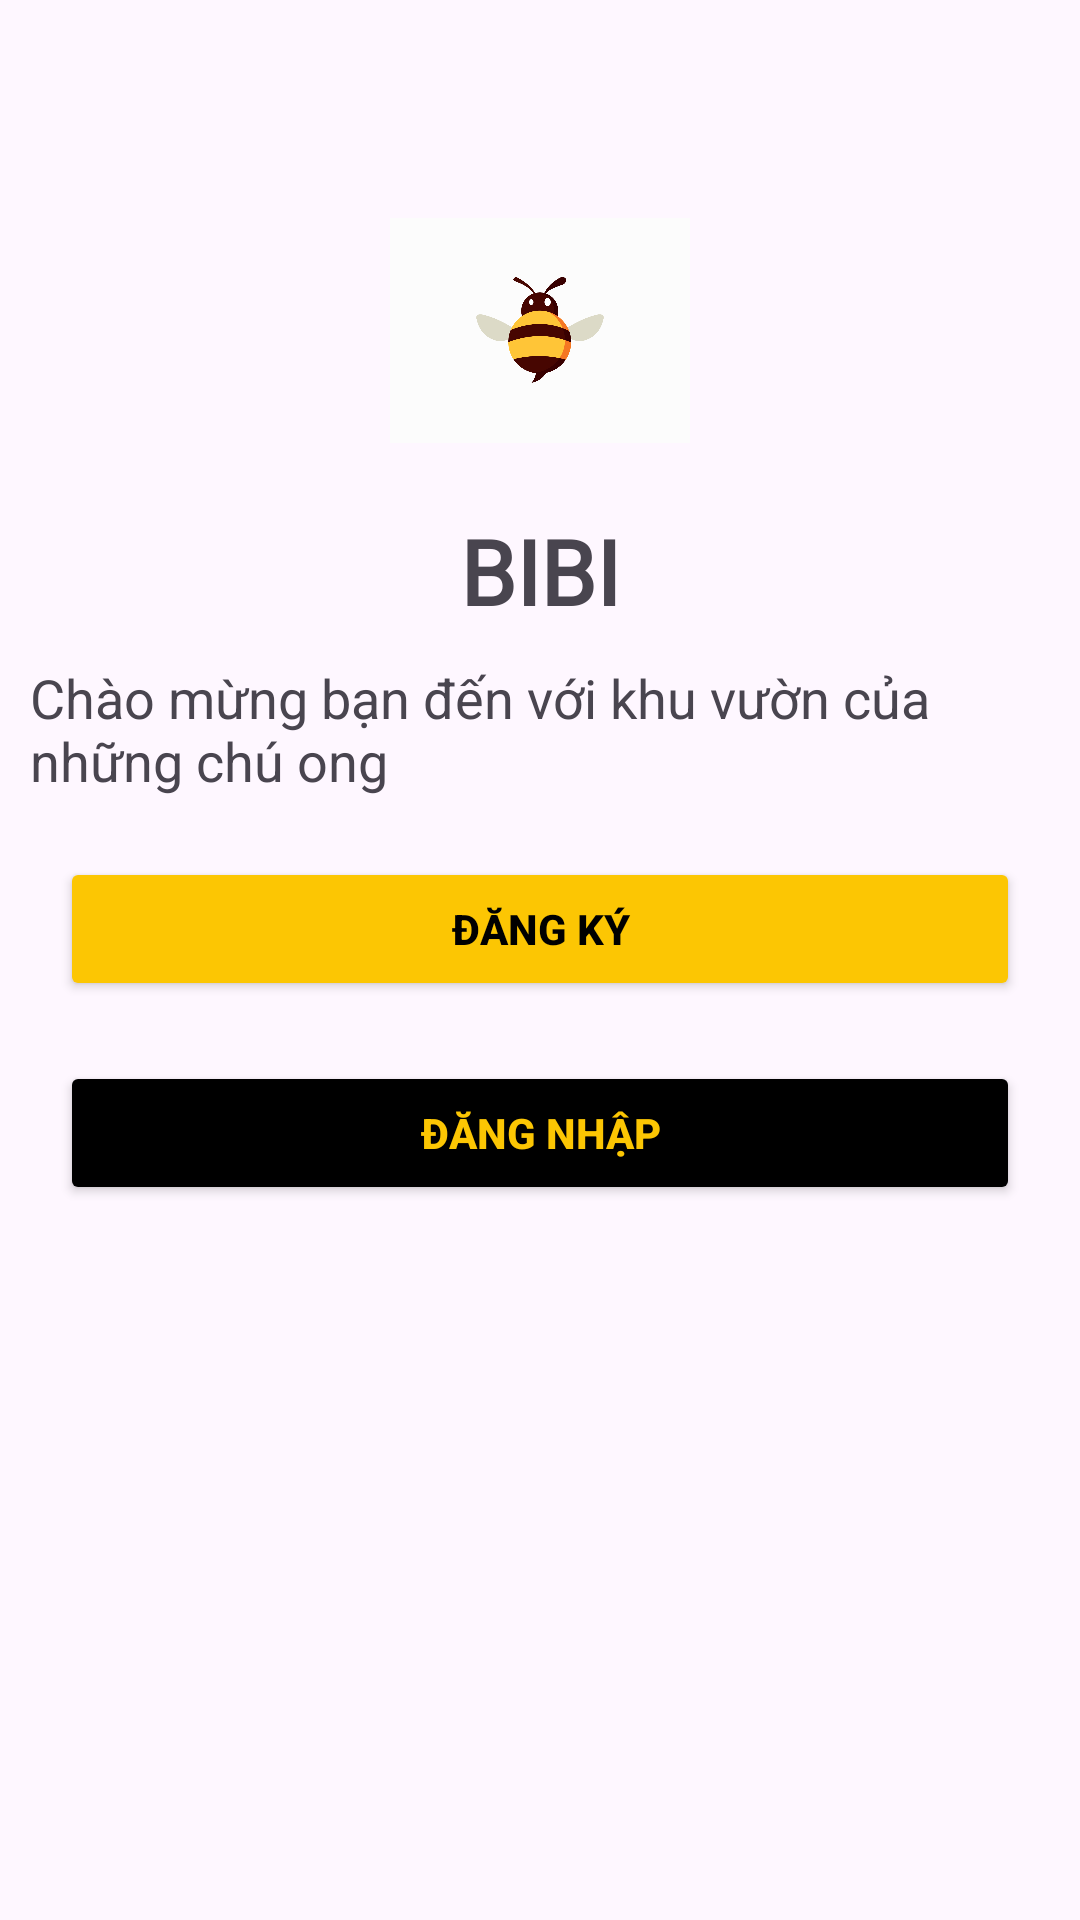

Where icons sit on this 1080w x 1920h app screen, as (x1, y1, x2, y2):
bee: (476, 277, 604, 383)
